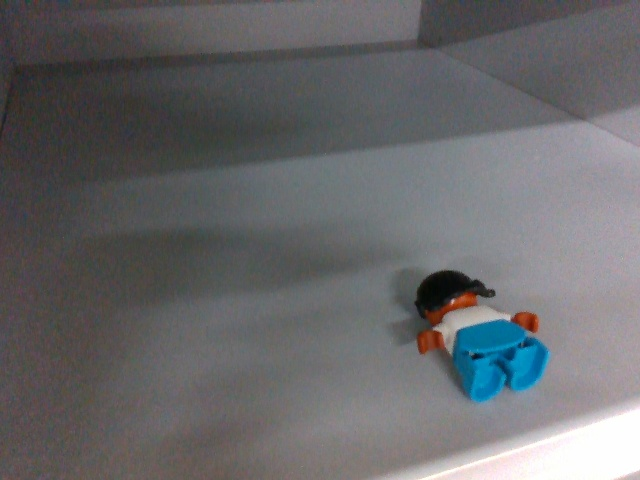people: (414, 266, 553, 407)
